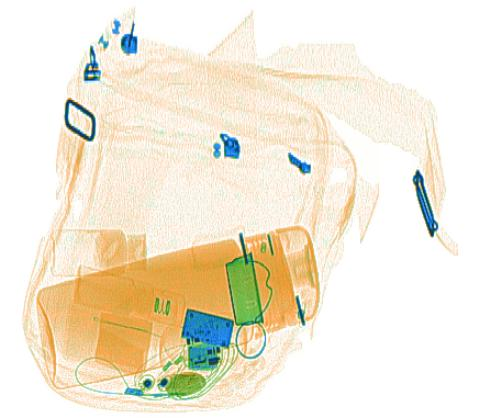plasticBottleWithaNozzle: (71, 263, 185, 327)
